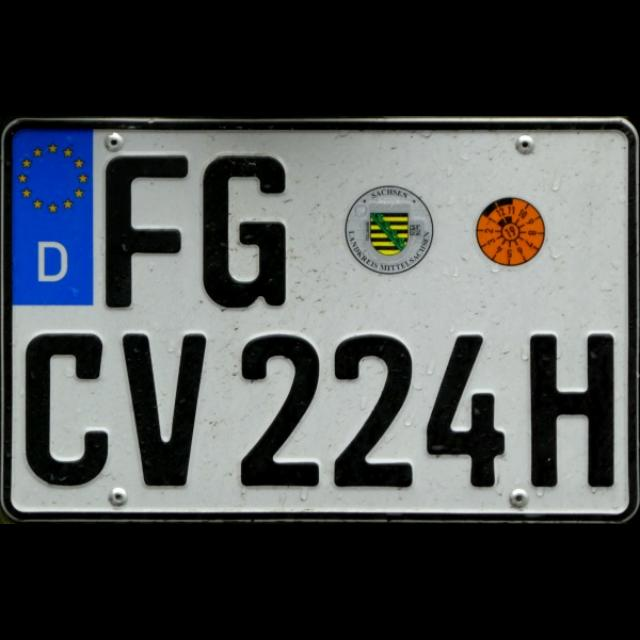d_license_plate: (6, 125, 632, 515)
